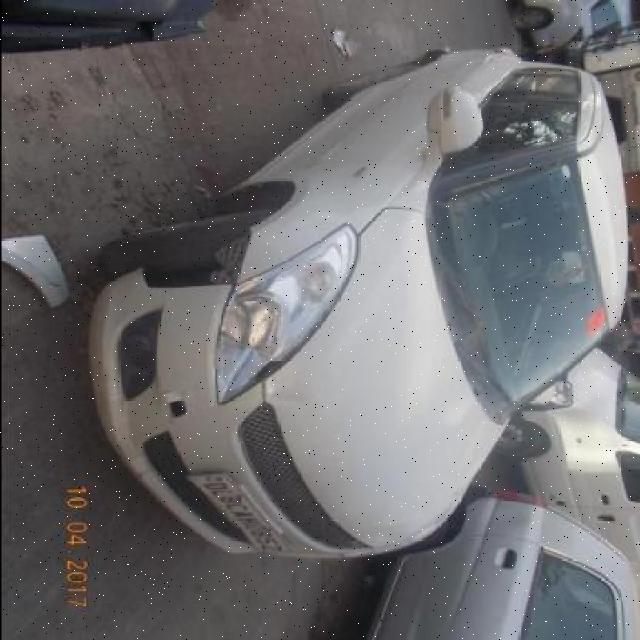damage: (256, 295, 342, 385), (141, 228, 252, 291), (160, 395, 188, 422)
